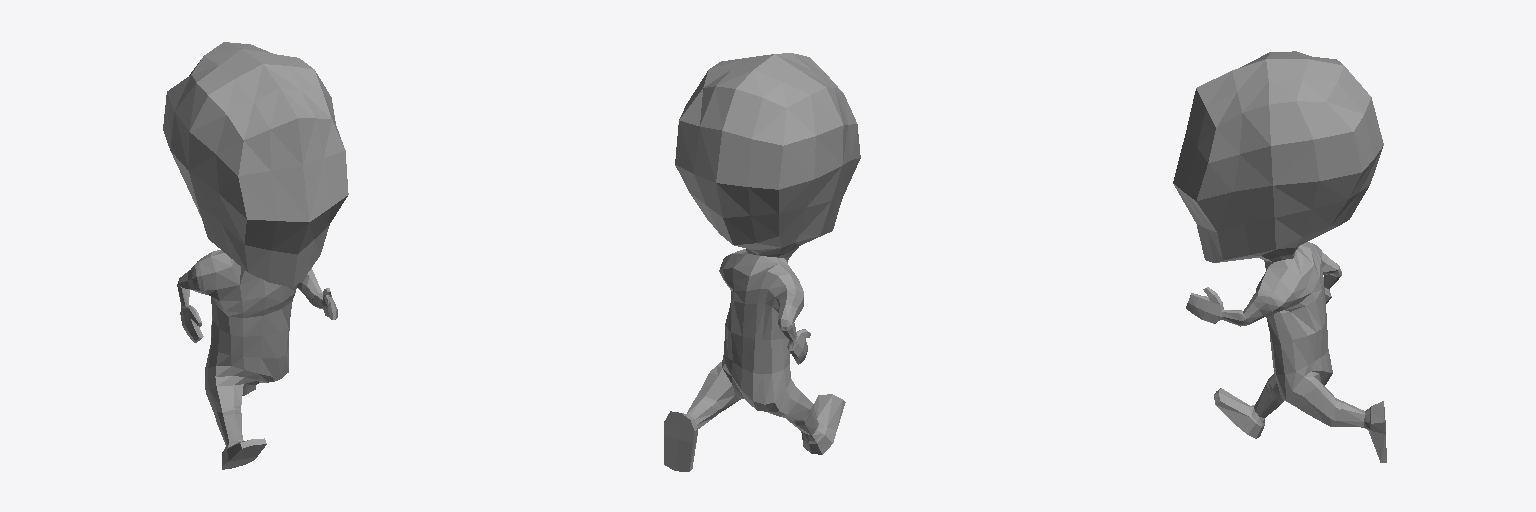
File: char_000009.obj
3 views of the same model, side by side, from view 1: azimuth 30°, elevation 25°; view 2: azimuth 150°, elevation 25°; view 3: azimuth 270°, elevation 25° (orthographic).
Parts seen in each view (by area): view 1: lp_guy_mesh_Cube; view 2: lp_guy_mesh_Cube; view 3: lp_guy_mesh_Cube.
Boxes of the visible parts, <box> form: lp_guy_mesh_Cube: <box>163,42,348,469</box>; lp_guy_mesh_Cube: <box>664,53,860,471</box>; lp_guy_mesh_Cube: <box>1173,51,1386,462</box>.
Size of the model in its own units: 0.7344 by 1.95 by 0.9584.